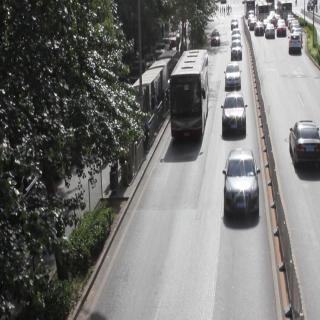BigCar: (170, 48, 208, 142)
Car: (224, 150, 260, 220), (288, 118, 320, 178), (221, 91, 248, 136), (224, 60, 243, 89), (288, 33, 302, 55), (230, 38, 244, 58), (210, 27, 222, 49), (277, 20, 287, 36), (255, 22, 265, 38), (265, 24, 275, 39)
